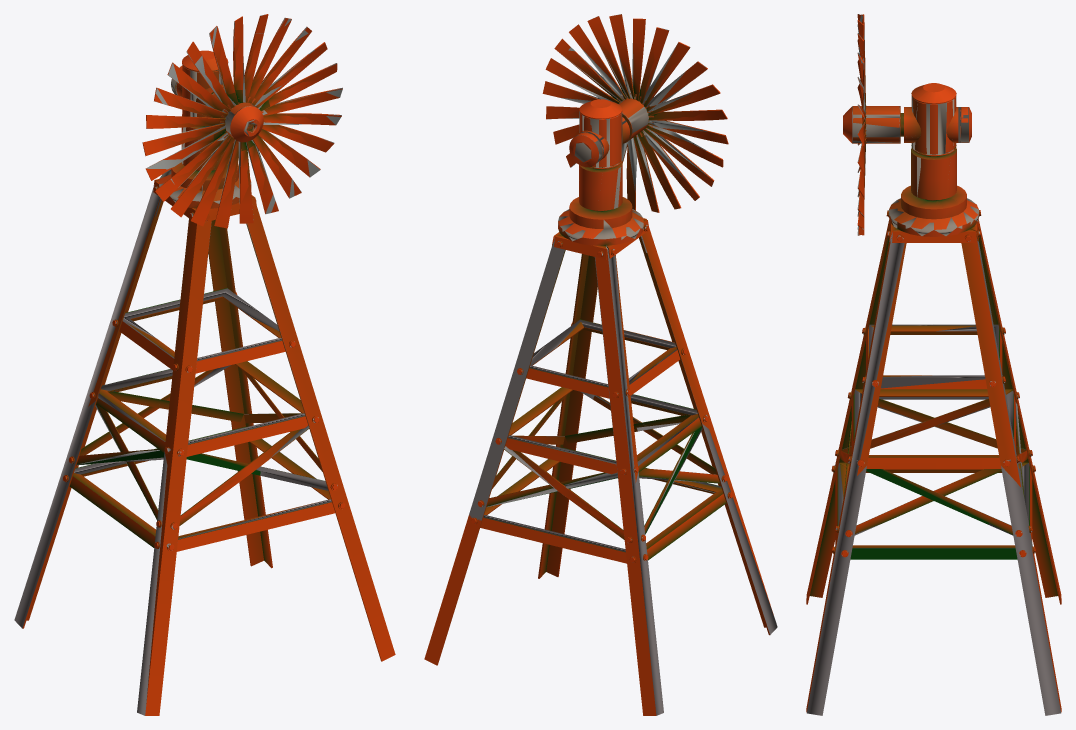
Rendered from KB3D_CSK_PropWindmillA_A.glb.
3 views of the same model, side by side, from view 1: azimuth 30°, elevation 25°; view 2: azimuth 150°, elevation 25°; view 3: azimuth 270°, elevation 25° (orthographic). The views are drawn at different scales.
Parts seen in each view (by area): view 1: L0, L2, L1; view 2: L0, L2, L1; view 3: L0, L2, L1.
Part boxes in pixels (x1,y1,x2,y2): L0: [22, 14, 395, 715]; L2: [14, 14, 342, 715]; L1: [64, 33, 342, 550]; L0: [424, 14, 773, 715]; L2: [469, 14, 777, 715]; L1: [471, 36, 732, 559]; L0: [806, 14, 1061, 712]; L2: [807, 14, 1060, 715]; L1: [832, 22, 1032, 555].
Bounding box in the file's own units: 4.96 × 12.31 × 4.51.
